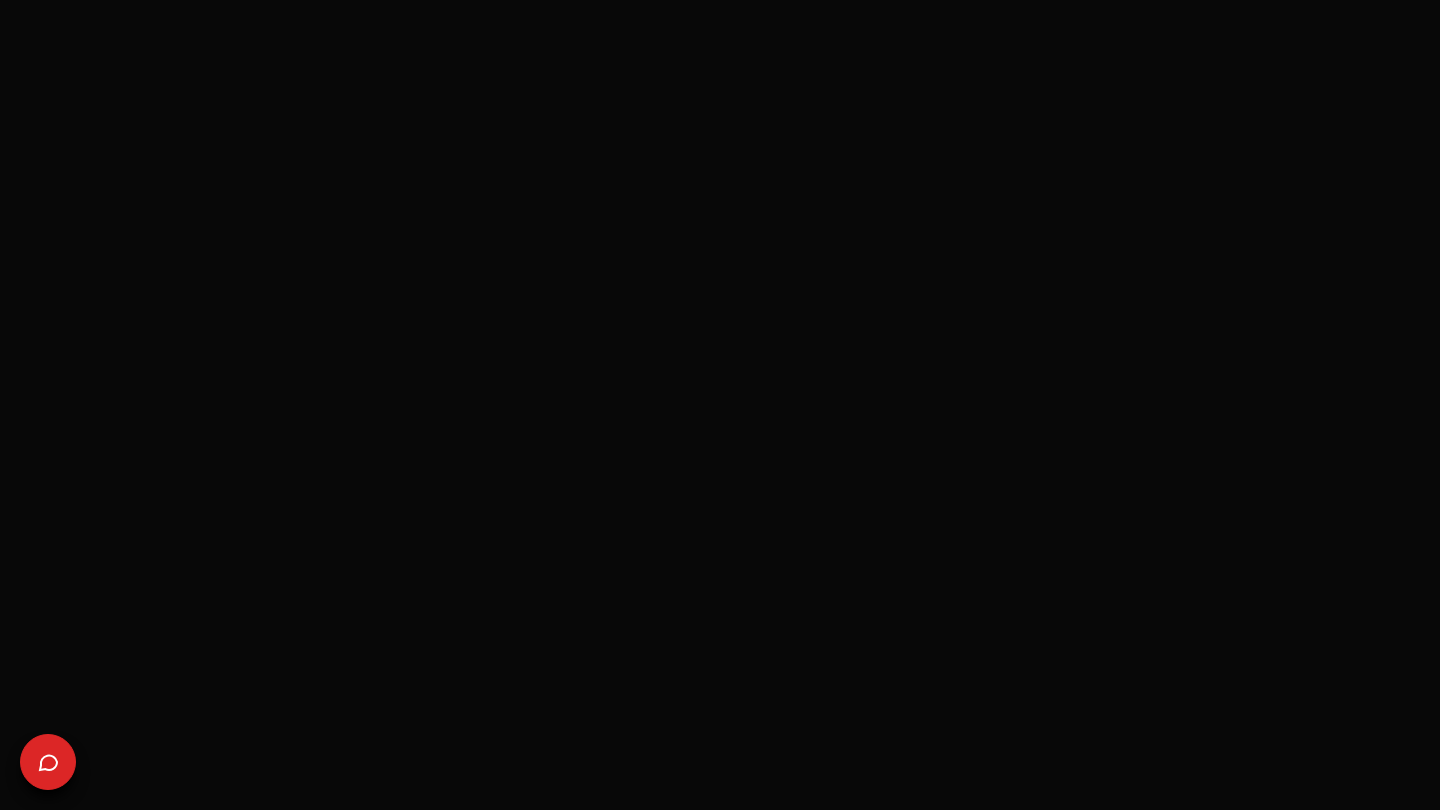
Scenario: ChatWidget › shows an error message when the request fails
Click the button named "باز کردن چت" at (48, 762), box [20,734,76,790]
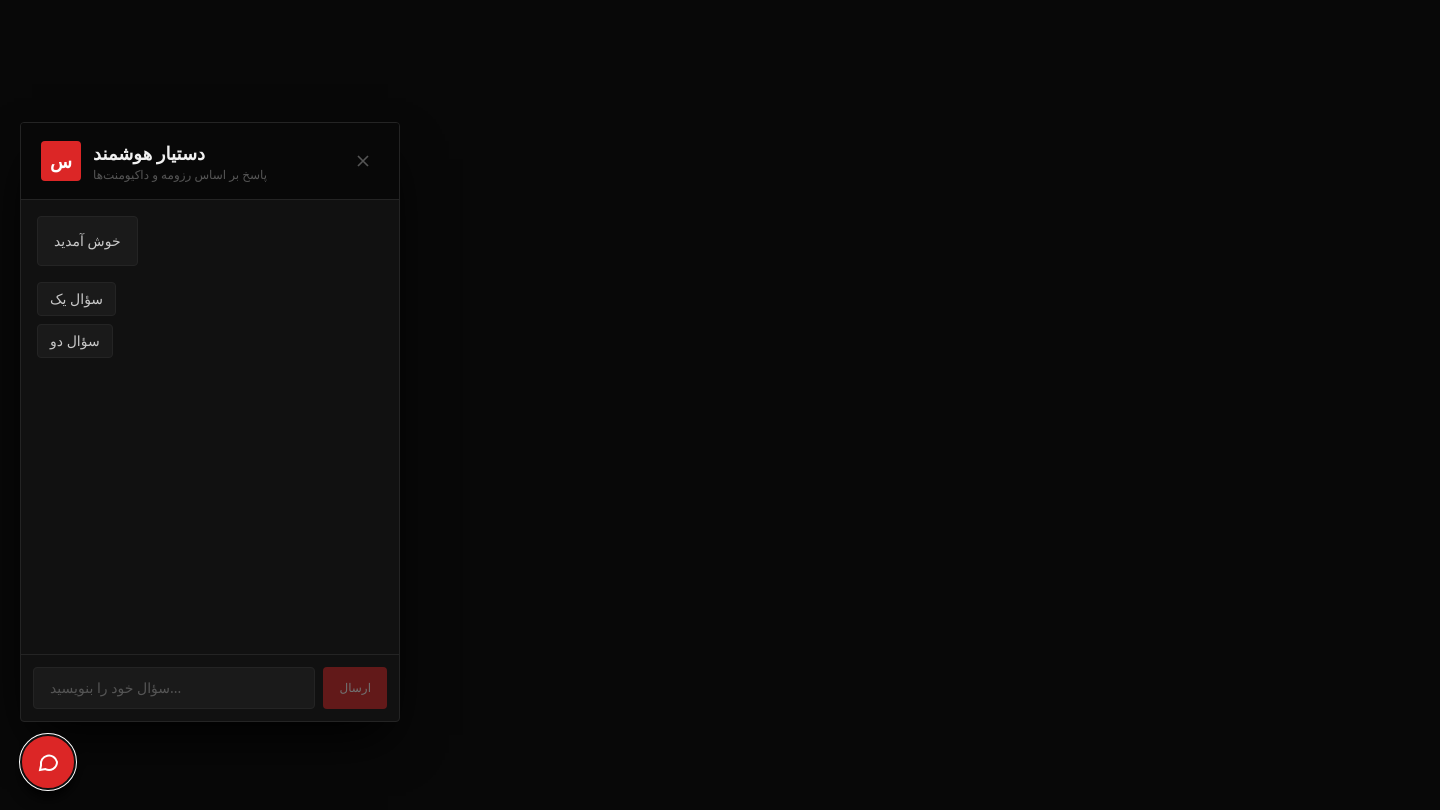
Type "سلام" into the field labelled "سؤال خود را بنویسید..." at (174, 688), box [33,667,315,709]
Then press Enter
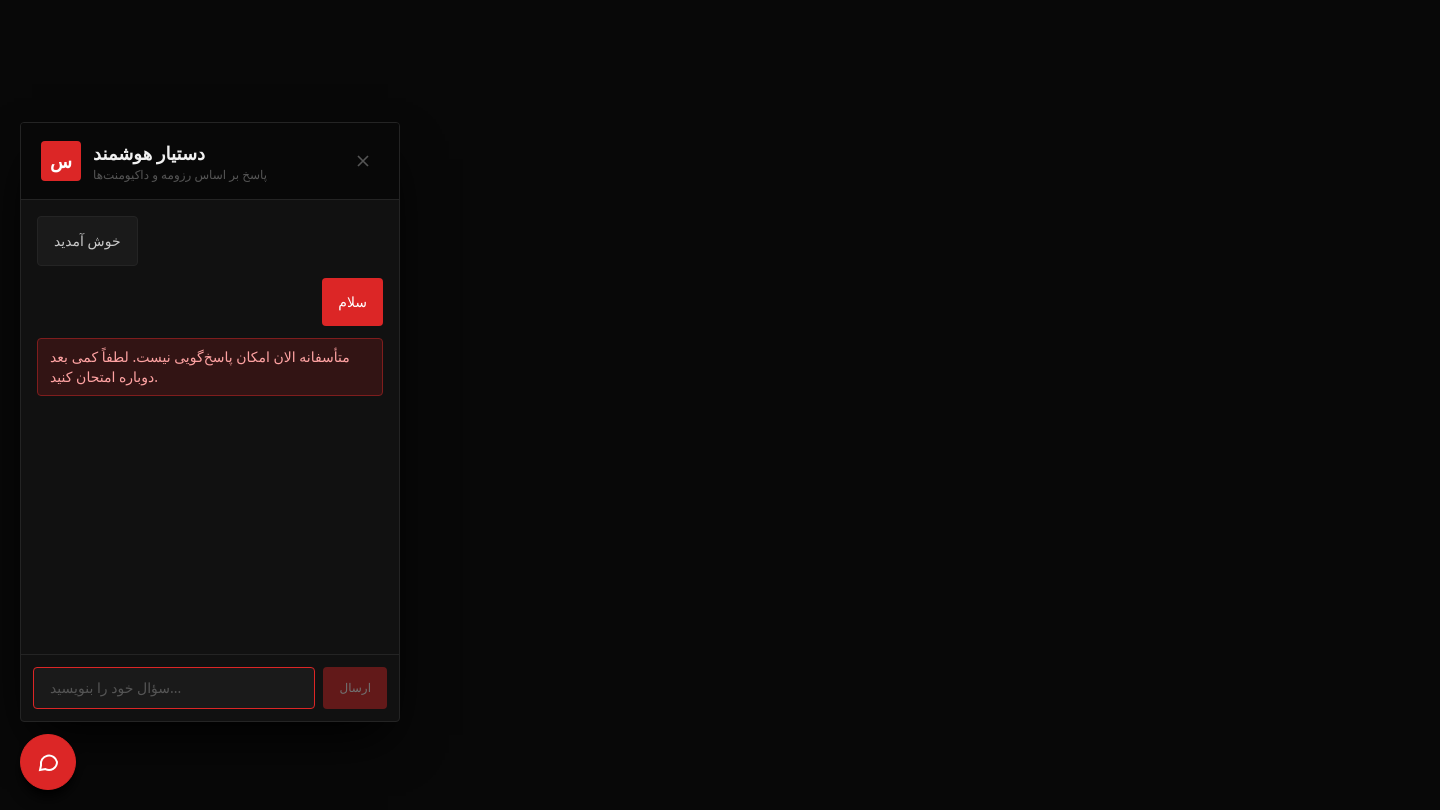
Check: the message reads "متأسفانه الان امکان پاسخ‌گویی نیست. لطفاً کمی بعد دوباره امتحان کنید.", box [50,347,350,386]
